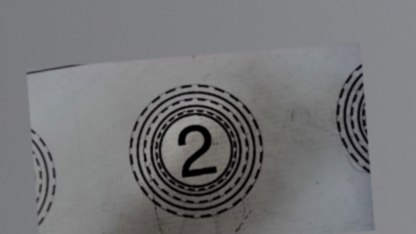2r: (122, 79, 270, 223)
